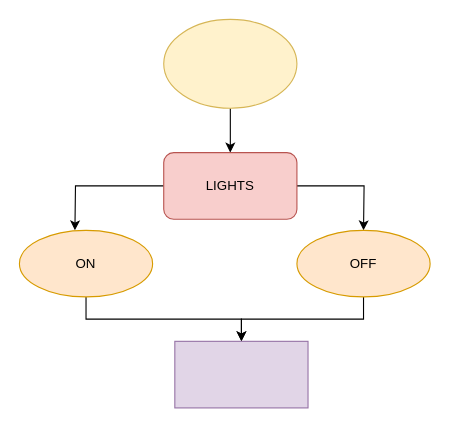
The diagram is 450 pixels wide and 427 high, and some of its shapes have lost their labels. The shapes that lost their labels are listed below. From the top down, each one's centre as x and y in pixels, then its label:
At [230,63]: "START".
At [241,374]: "END".
